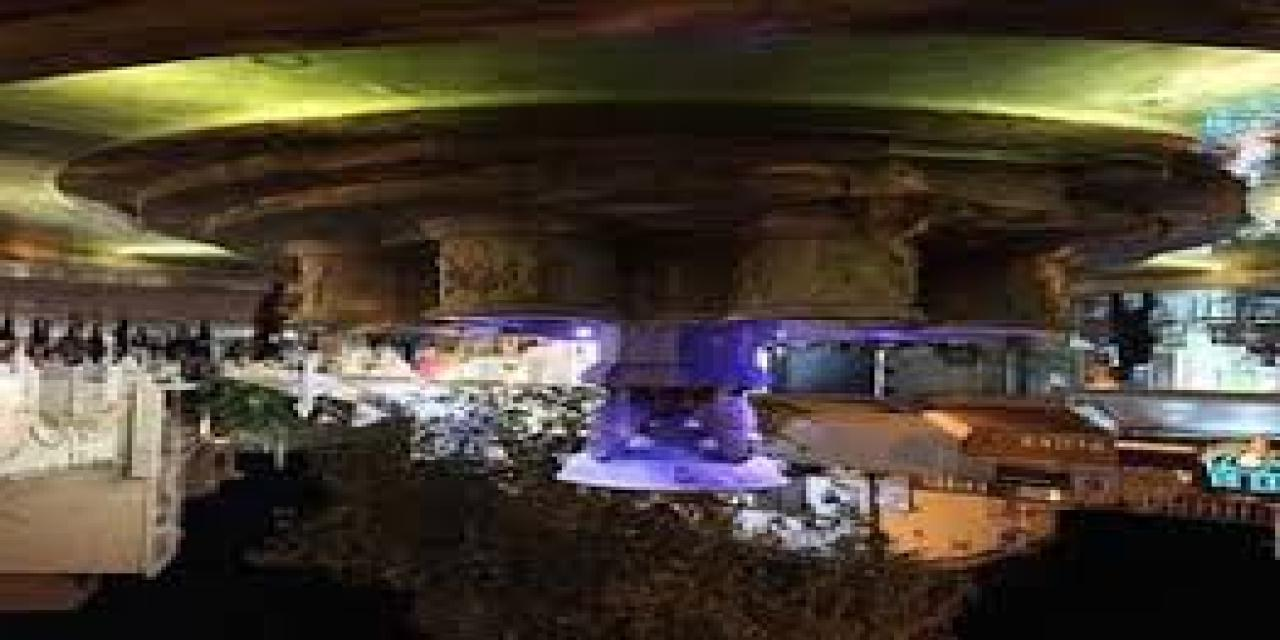Liontaria: (279, 203, 1080, 485)
